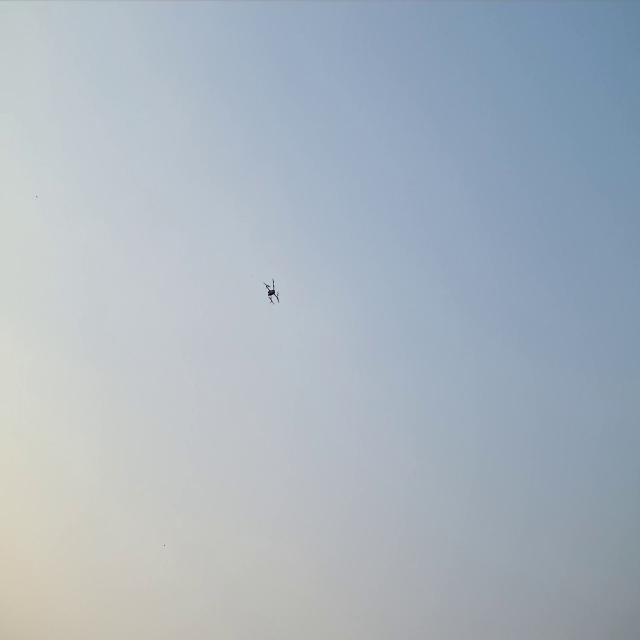UAV: (262, 276, 282, 307)
